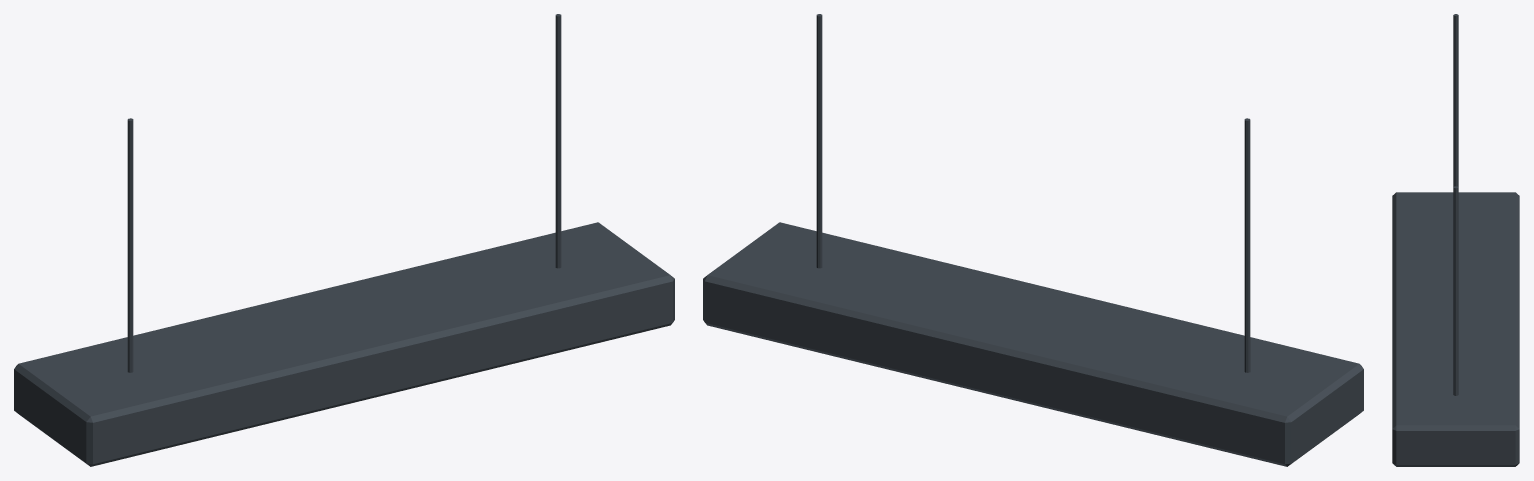
File: HangingLight.fbx
3 views of the same model, side by side, from view 1: azimuth 30°, elevation 25°; view 2: azimuth 150°, elevation 25°; view 3: azimuth 270°, elevation 25° (orthographic). The views are drawn at different scales.
Parts seen in each view (by area): view 1: HangingLight; view 2: HangingLight; view 3: HangingLight.
Boxes of the visible parts, box(x1,y1,x2,y2) form: HangingLight: box(14, 14, 674, 466); HangingLight: box(703, 14, 1363, 466); HangingLight: box(1392, 14, 1519, 466).
Size of the model in its own units: 110 by 54.8 by 25.
1 material, 1 textured.
